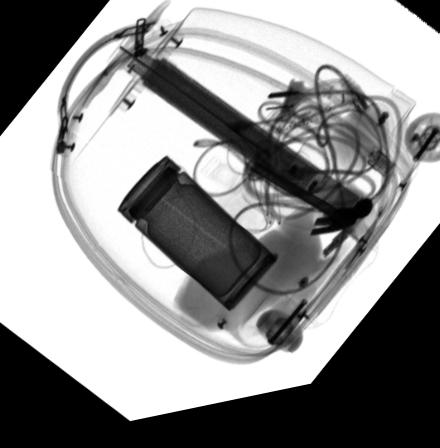Hammer: (246, 173, 374, 250)
